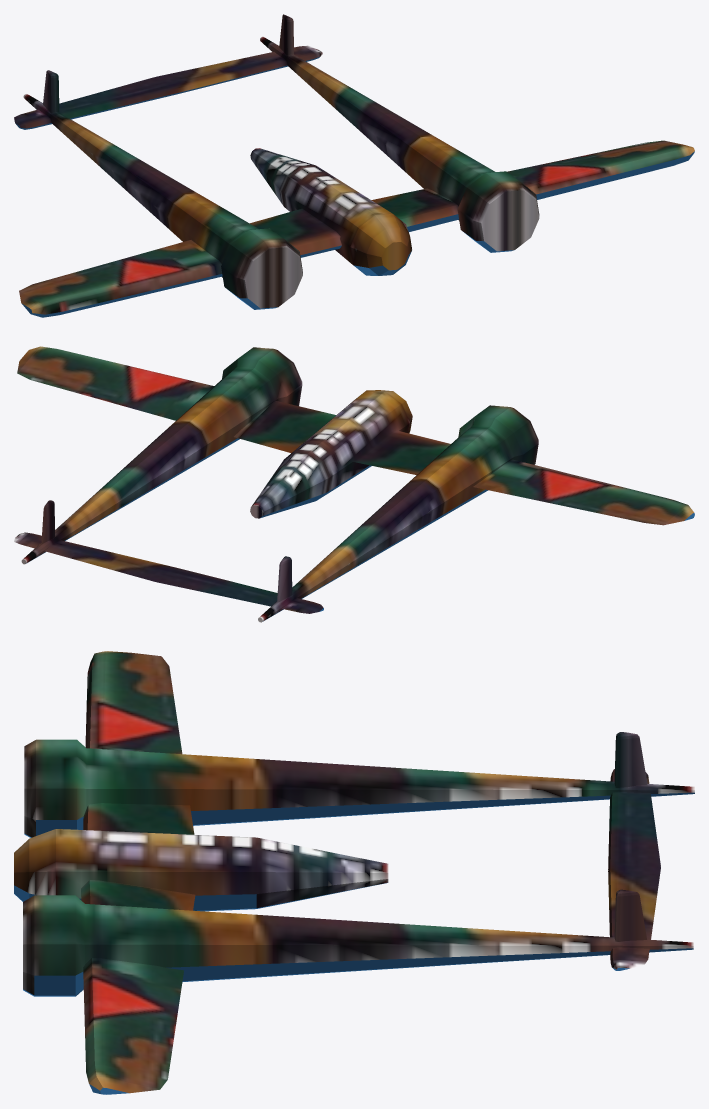
File: fokker.obj
3 views of the same model, one above another, from view 1: azimuth 30°, elevation 25°; view 2: azimuth 150°, elevation 25°; view 3: azimuth 270°, elevation 25° (orthographic). The views are drawn at different scales.
Bounding box in the file's own units: 99.19 × 11.11 × 65.36.
1 material, 1 textured.
